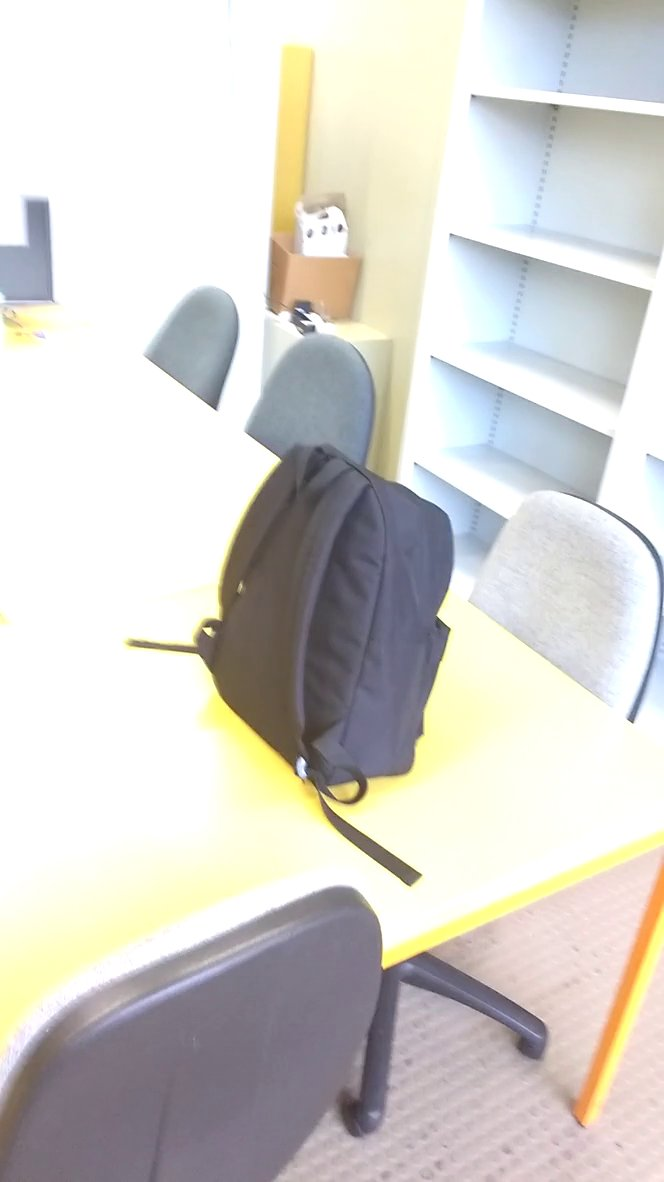bag: (192, 437, 466, 811)
chair: (3, 864, 402, 1182), (464, 484, 664, 738), (232, 330, 391, 511), (125, 269, 246, 428)
